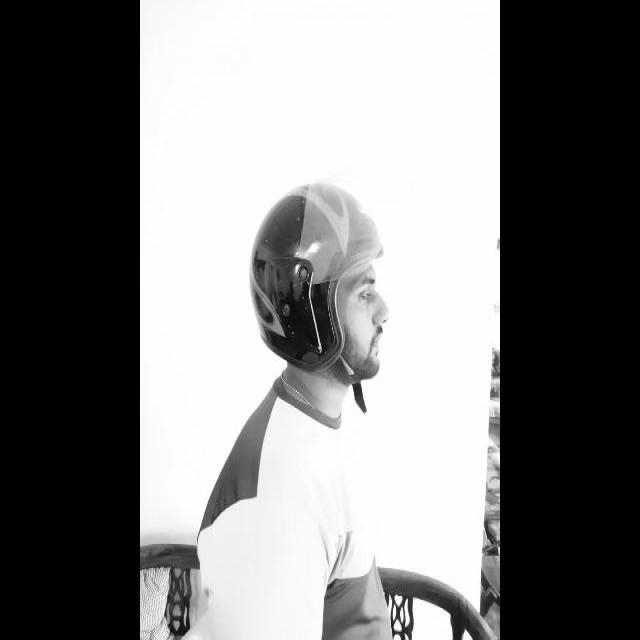5_casco: (250, 179, 386, 373)
